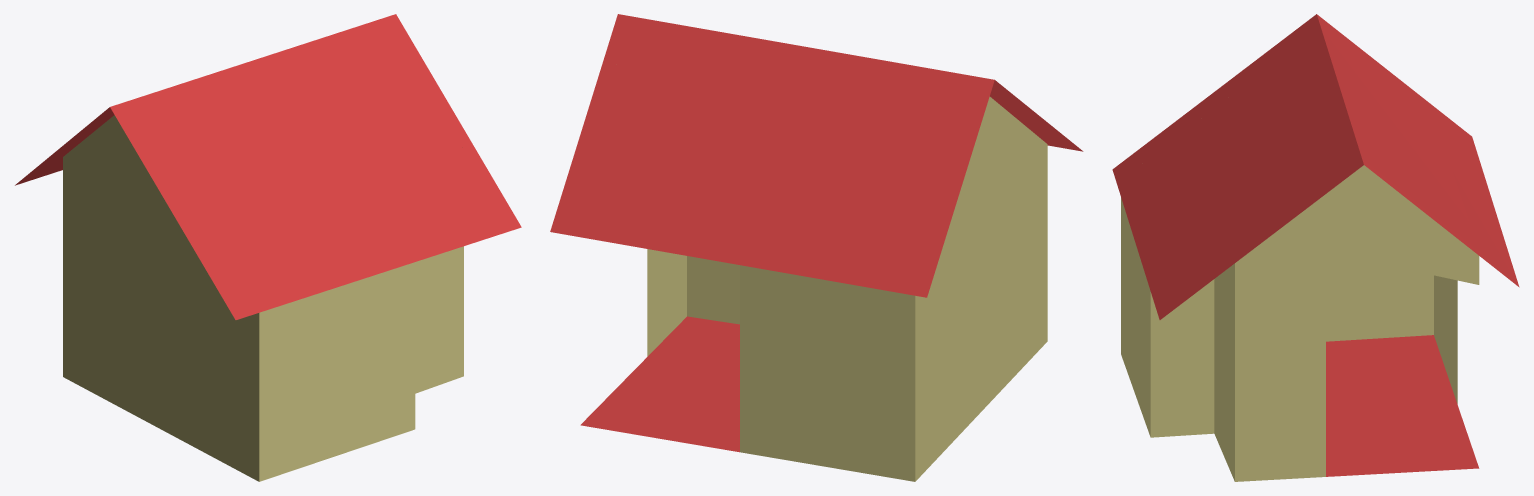
3 renders of one model, left to right at view 1: azimuth 30°, elevation 25°; view 2: azimuth 150°, elevation 25°; view 3: azimuth 270°, elevation 25°, orthographic. The views are drawn at different scales.
Bounding box in the file's own units: 13.69 × 13.76 × 11.76.
